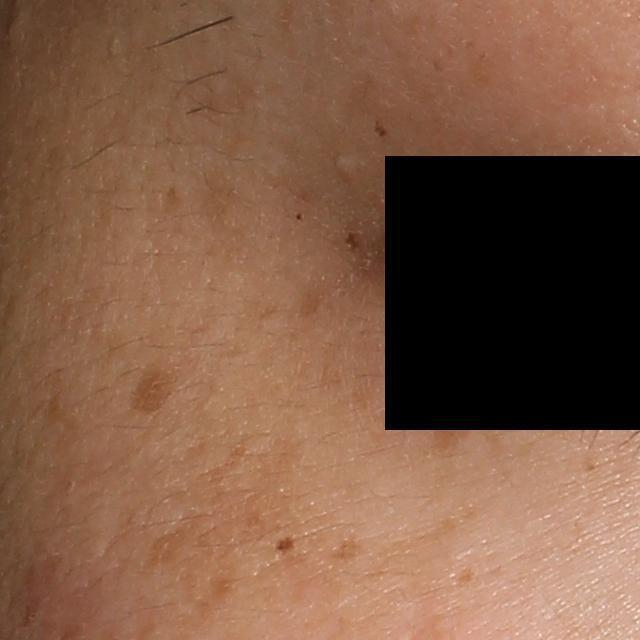comedo: (332, 149, 363, 186)
melasma: (143, 442, 320, 627), (364, 501, 481, 580), (425, 400, 482, 464), (131, 363, 177, 417), (332, 535, 367, 561), (450, 565, 481, 590)
nevus: (271, 536, 295, 552), (373, 119, 389, 139)
